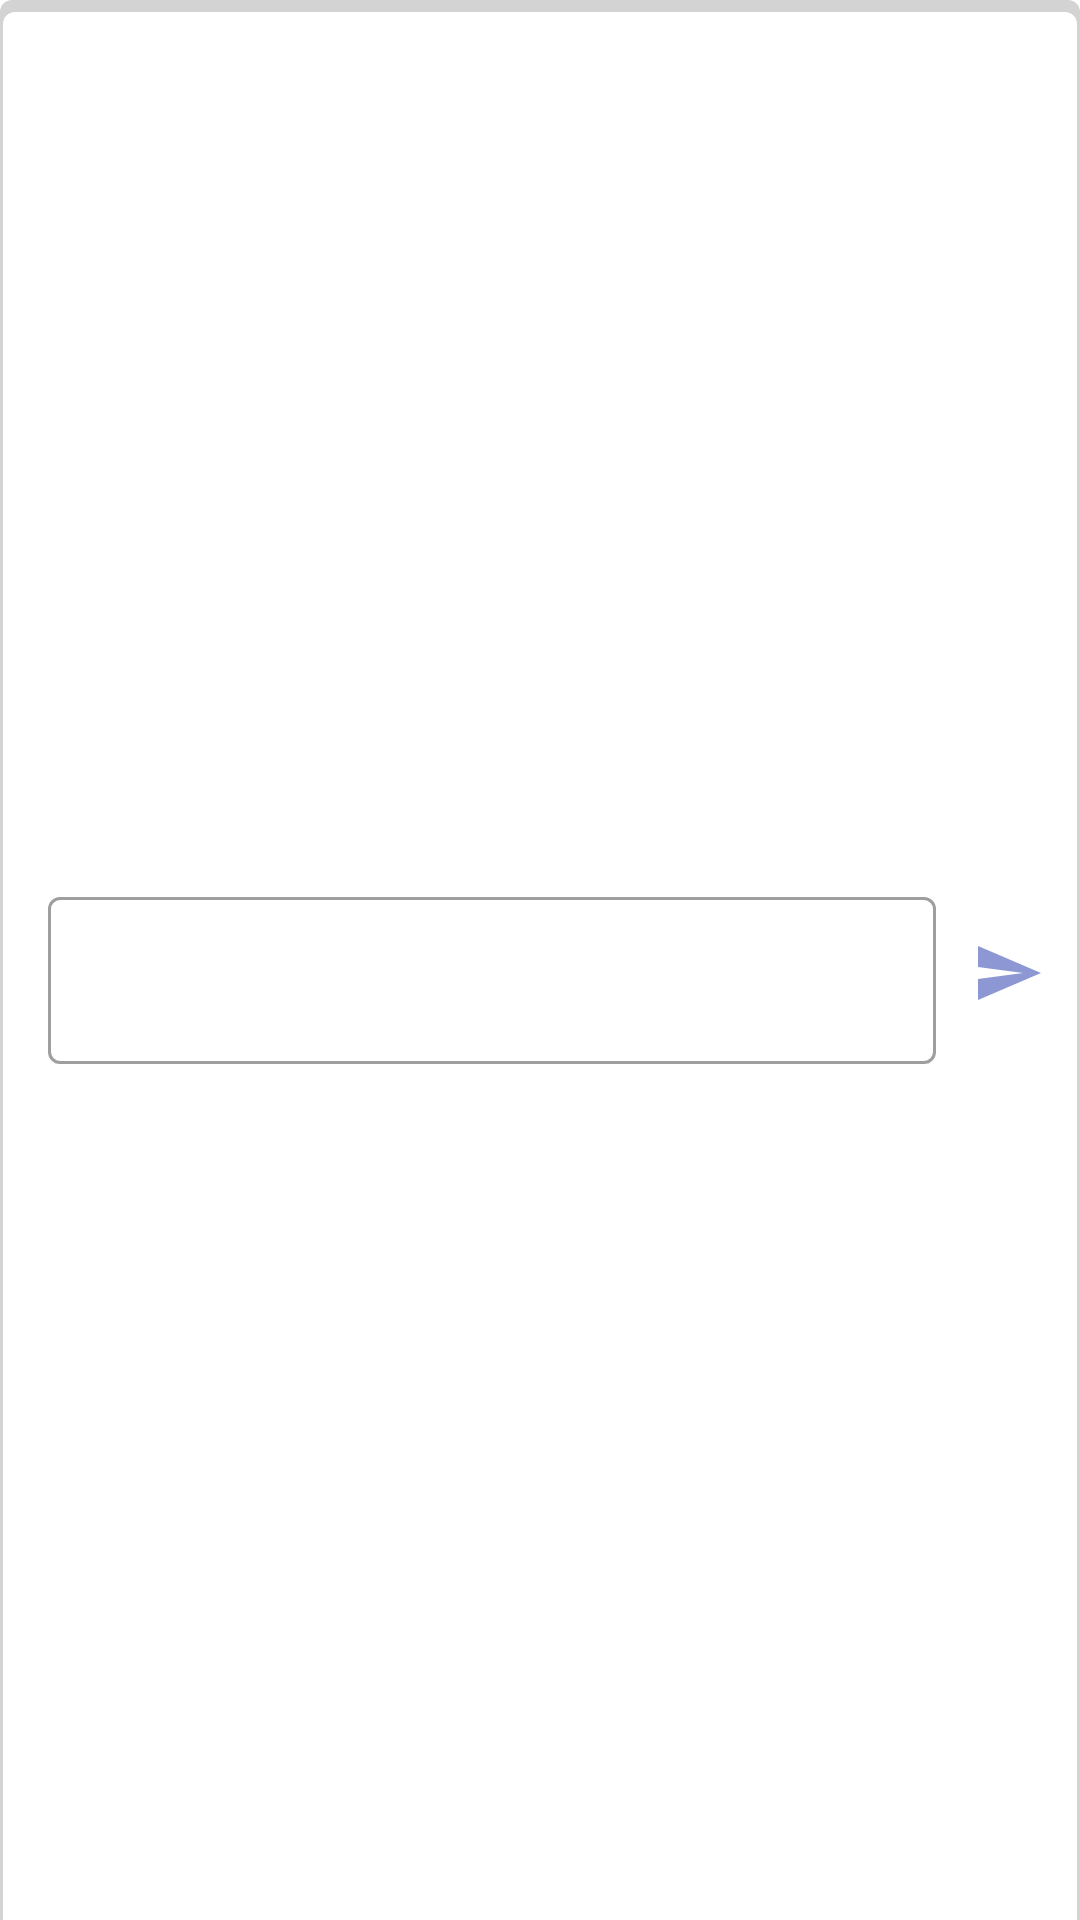

Screen size 1080px x 1920px. Icon name, then its center in pixels as point (x, y):
send: point (1009, 973)
